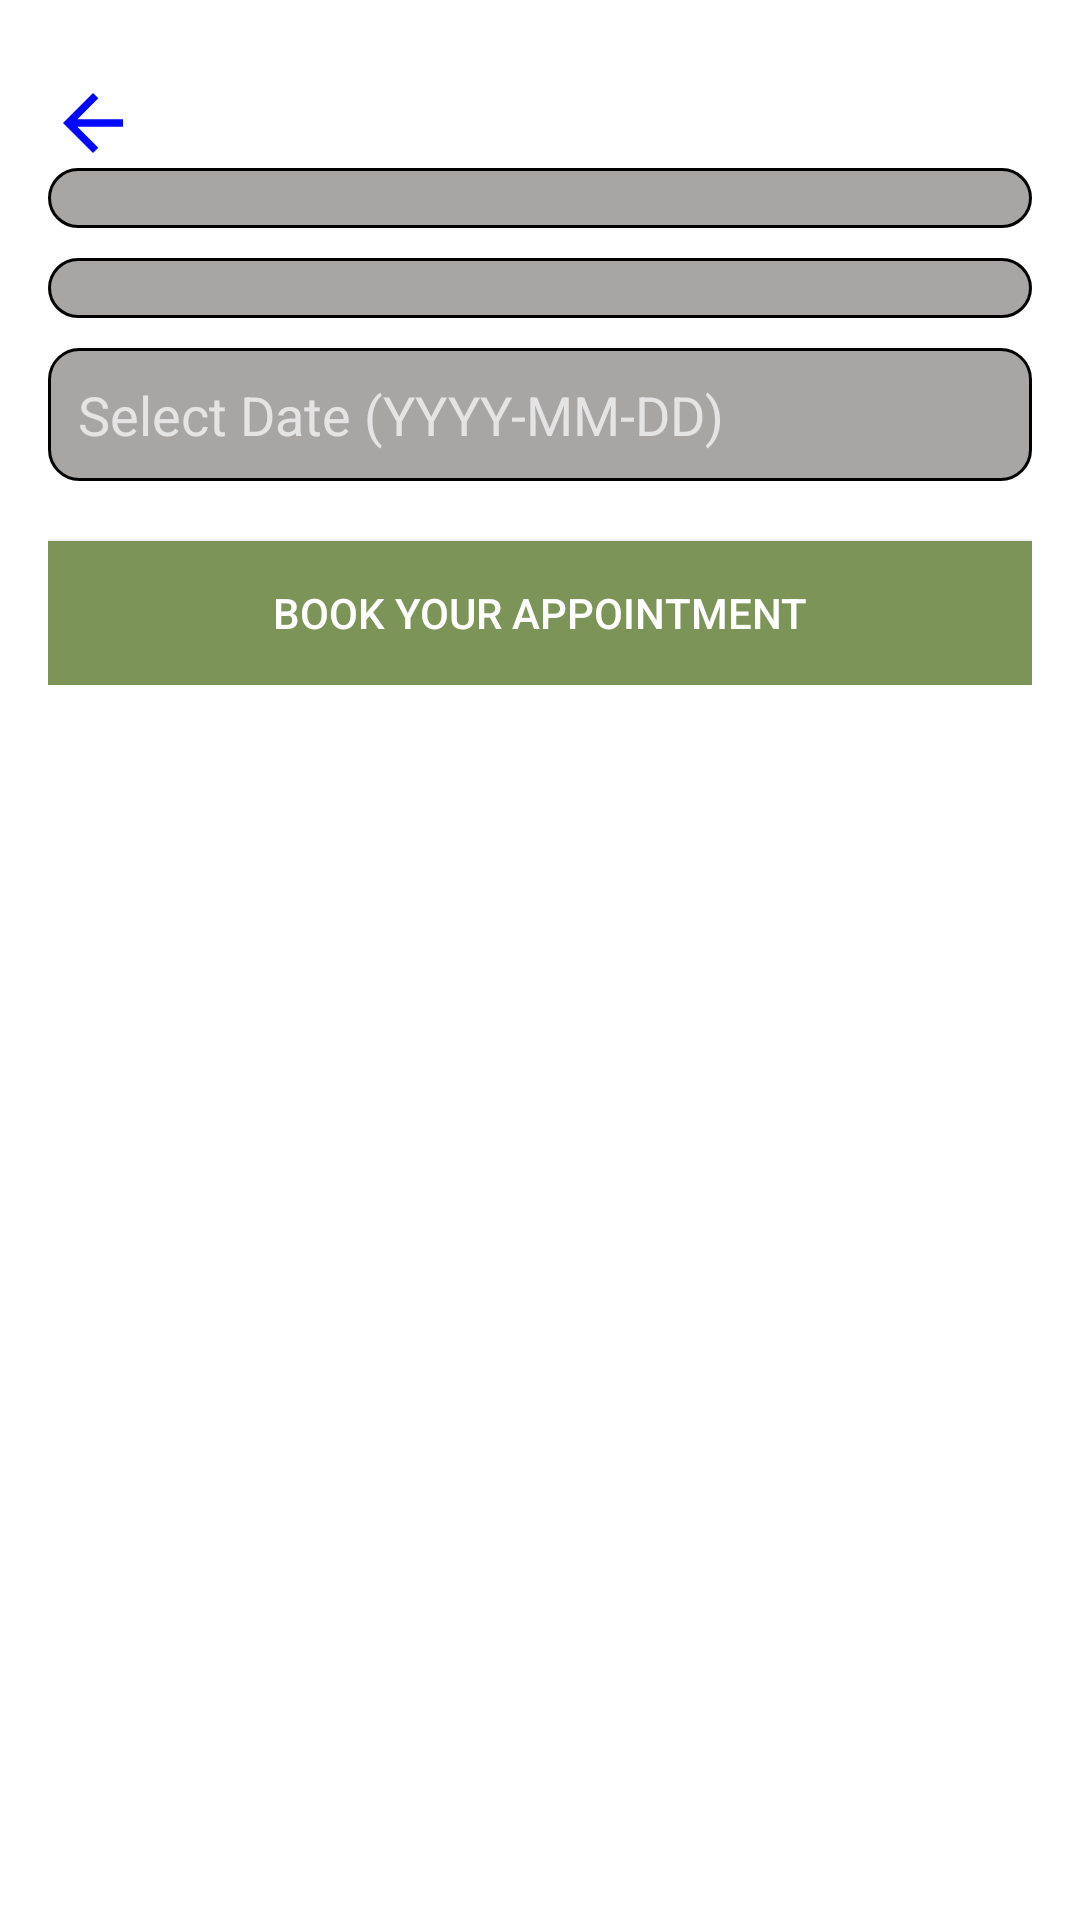

Where to tap for icons on this 1080*1920 app screen, as point (x, y):
back: point (93, 123)
